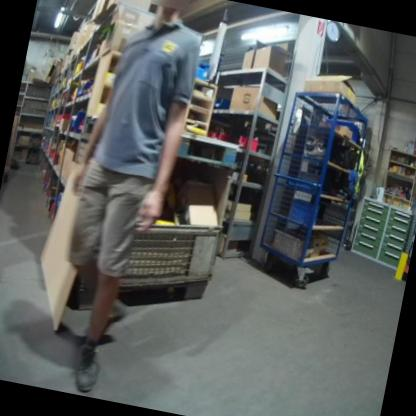pallet: (180, 135, 240, 169)
stillage: (67, 142, 231, 315)
